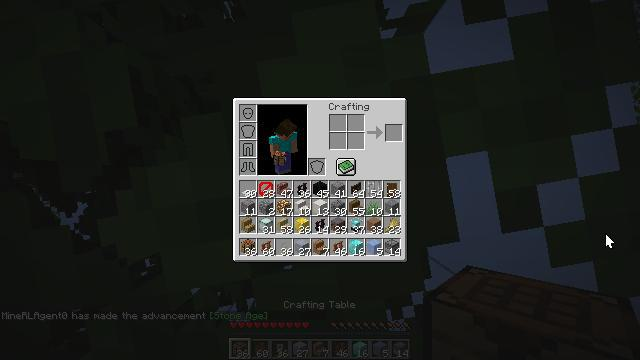cursor: (605, 233, 615, 249)
